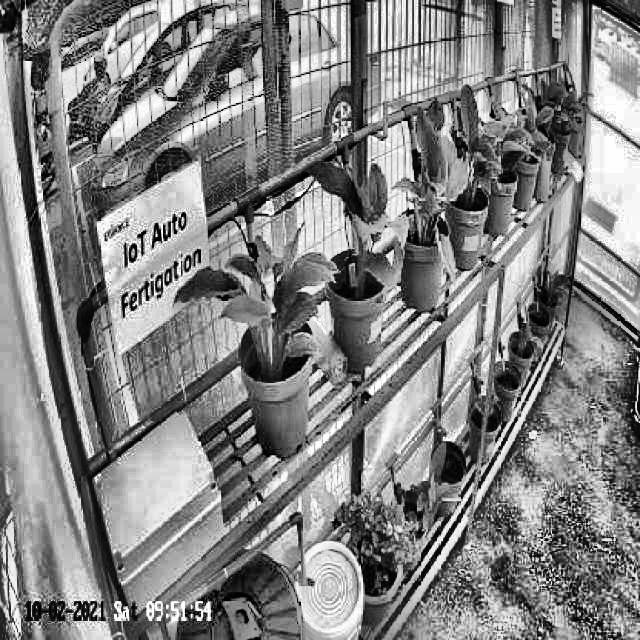plants: (170, 219, 341, 384), (308, 150, 412, 301), (384, 91, 458, 292), (434, 75, 506, 211)
